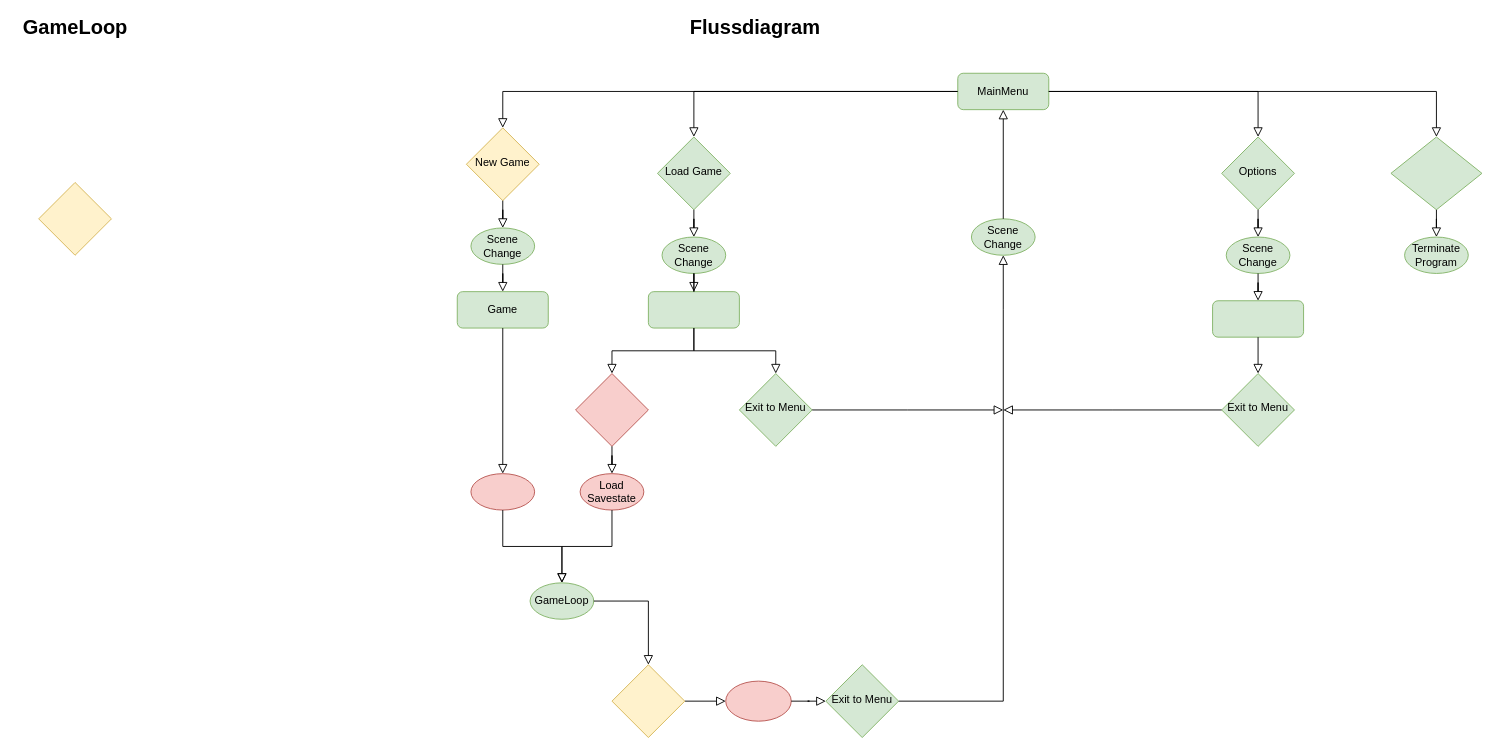
Some shapes in this 1498 by 753 pixel diagram are drawn without their labels. Here are the shapes that lost their labels. From the top down, the centre of each, then its label:
At (1436,173): "Exit".
At (74,218): "BuildMenu".
At (693,309): "LoadMenu".
At (1258,318): "OptionsMenu".
At (611,409): "Choose Savestate".
At (502,491): "Create Savestate".
At (648,701): "Save and Exit".
At (758,700): "Save Savestate".
